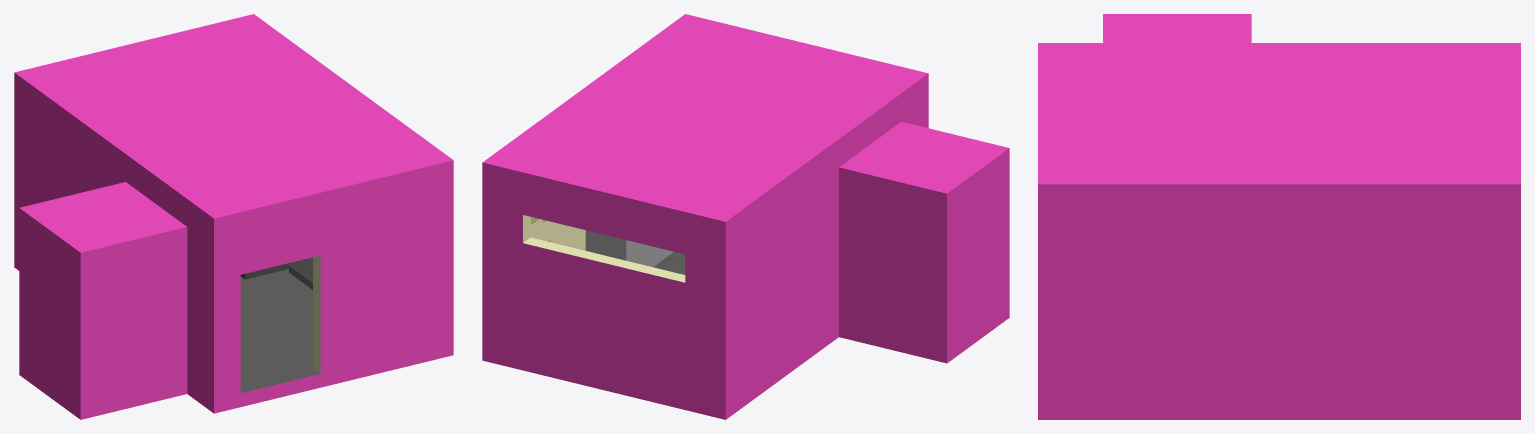
Rendered from Apartment8.gltf.
3 renders of one model, left to right at view 1: azimuth 30°, elevation 25°; view 2: azimuth 150°, elevation 25°; view 3: azimuth 270°, elevation 25°, orthographic. The views are drawn at different scales.
Parts seen in each view (by area): view 1: Apartment ceiling, Side Wall (×4), Door Wall, Apt Floor, Ceiling, Back Wall, Floor, Table; view 2: Apartment ceiling, Side Wall (×4), Window Wall, Ceiling, Back Wall, Apt Floor, Floor, Table; view 3: Side Wall, Apartment ceiling, Apt Floor, Ceiling.
Part boxes in pixels (<box>): Apartment ceiling: <box>14,14,453,232</box>; Side Wall (×4): <box>14,86,453,405</box>; Door Wall: <box>227,177,440,396</box>; Apt Floor: <box>14,254,453,413</box>; Ceiling: <box>19,182,187,266</box>; Back Wall: <box>27,227,72,399</box>; Floor: <box>19,361,187,419</box>; Table: <box>289,257,312,289</box>; Apartment ceiling: <box>482,14,928,235</box>; Side Wall (×4): <box>482,88,1009,405</box>; Window Wall: <box>496,180,712,402</box>; Ceiling: <box>839,121,1009,207</box>; Back Wall: <box>955,168,1001,343</box>; Apt Floor: <box>482,251,838,419</box>; Floor: <box>839,304,1009,363</box>; Table: <box>585,230,672,268</box>; Side Wall: <box>1038,201,1520,403</box>; Apartment ceiling: <box>1038,43,1520,201</box>; Apt Floor: <box>1038,403,1520,419</box>; Ceiling: <box>1103,14,1251,42</box>.
Bounding box in the file's own units: 6.5 × 3.5 × 6.5.
2 materials, 2 textured.
